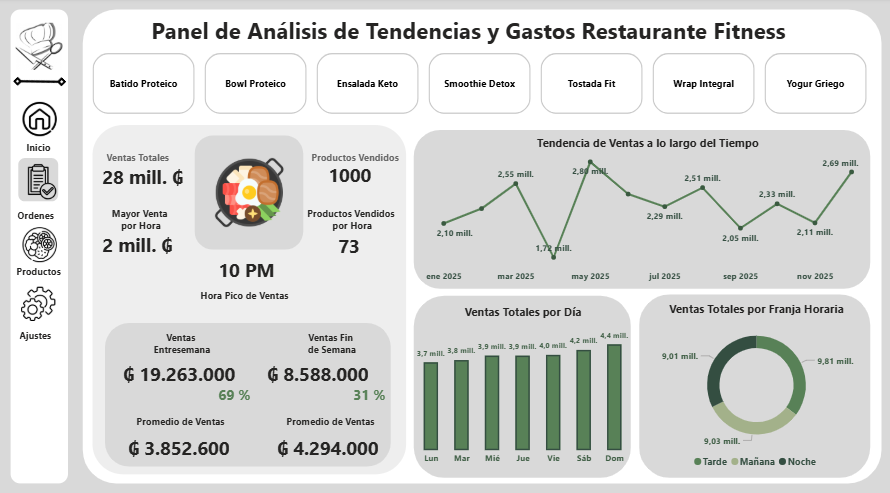

Layout of this report page (visuals, bound fields, positions):
{"tool":"powerbi","page":{"name":"Página 1","canvas":[1280,720],"ordinal":0},"visuals":[{"type":"textbox","box":[214.3,24.3,942.9,61.4],"z":0},{"type":"cardVisual","fields":{"Data":["Medidas_dax.Medida"]},"box":[120,225,188.6,67.1],"z":1000},{"type":"cardVisual","fields":{"Data":["Medidas_dax.Productos_Vendidos"]},"box":[442.9,225,121.4,62.9],"z":2000},{"type":"cardVisual","fields":{"Data":["Medidas_dax.Hora_Gasto_Maximo"]},"box":[120,325,178.8,65],"z":3000},{"type":"cardVisual","fields":{"Data":["Medidas_dax.Producto_mas_vendido"]},"box":[457.1,325,92.9,68.6],"z":4000},{"type":"cardVisual","fields":{"Data":["Medidas_dax.Hora_Pico_de_Ventas_formatoxhora"]},"box":[285,360,138.8,65],"z":5000},{"type":"cardVisual","fields":{"Data":["Medidas_dax.Gasto_Entresemana"]},"box":[150,505,235.7,70],"z":6000},{"type":"cardVisual","fields":{"Data":["Medidas_dax.Gasto_FindeSemana"]},"box":[355.7,505,235,70],"z":7000},{"type":"cardVisual","fields":{"Data":["Medidas_dax.% Gasto_Entresemana"]},"box":[285,540,105,60],"z":8000},{"type":"cardVisual","fields":{"Data":["Medidas_dax.% Gasto_FindeSemana"]},"box":[478.3,540,105,60],"z":9000},{"type":"cardVisual","fields":{"Data":["Medidas_dax.Gasto_Promedio_Entresemana"]},"box":[157.1,611.4,208.6,70],"z":10000},{"type":"cardVisual","fields":{"Data":["Medidas_dax.Gasto_Promedio_FindeSemana"]},"box":[370,611.4,215.7,70],"z":11000},{"type":"textbox","box":[150,220,108.6,28.6],"z":12000},{"type":"textbox","box":[442.9,220,152.9,28.6],"z":13000},{"type":"textbox","box":[157.1,300,94.3,44.3],"z":14000},{"type":"textbox","box":[432.9,300,142.9,47.1],"z":15000},{"type":"textbox","box":[283.8,417.5,145,28.8],"z":16000},{"type":"textbox","box":[214.3,477.1,97.1,50],"z":17000},{"type":"textbox","box":[428.6,477.1,97,50],"z":18000},{"type":"textbox","box":[190,597.1,141.4,28.6],"z":19000},{"type":"lineChart","title":"Tendencia de Ventas a lo largo del Tiempo","fields":{"Y":["Sum(dataset_restaurante_fitness_2025.ingreso)"],"Category":["dataset_restaurante_fitness_2025.fecha.Variación.Jerarquía de fechas.Año","dataset_restaurante_fitness_2025.fecha.Variación.Jerarquía de fechas.Trimestre","dataset_restaurante_fitness_2025.fecha.Variación.Jerarquía de fechas.Mes"]},"box":[605.7,201.4,645.7,220],"z":20000},{"type":"clusteredColumnChart","title":"Ventas Totales por Día","fields":{"Category":["dataset_restaurante_fitness_2025.dia_semana"],"Y":["Sum(dataset_restaurante_fitness_2025.ingreso)"]},"box":[585,442.5,328.8,238.8],"z":21000},{"type":"donutChart","title":"Ventas Totales por Franja Horaria","fields":{"Category":["dataset_restaurante_fitness_2025.franja_horaria"],"Y":["Sum(dataset_restaurante_fitness_2025.ingreso)"]},"box":[928.6,438.6,310,248.6],"z":22000},{"type":"advancedSlicerVisual","fields":{"Values":["dataset_restaurante_fitness_2025.producto"]},"box":[130,84.3,1121.4,92.9],"z":23000},{"type":"textbox","box":[403.8,597.5,141.2,28.8],"z":23000},{"type":"textbox","box":[36,205.9,46.1,28.8],"z":24001},{"type":"textbox","box":[23,302.4,70.6,44.6],"z":24002},{"type":"textbox","box":[21.6,383,83.5,36],"z":24003},{"type":"textbox","box":[25.9,473.8,64.8,28.8],"z":24004}]}

Visuals, with their boxes on the page's 1280x720 design canvas (x1, y1, x2, y2). These are canvas units, not pixel positions in the 890x493 screenshot, which may show the page scaled, cropped or inside an application window:
textbox: Rect(214, 24, 1157, 86)
cardVisual - Medidas_dax.Medida: Rect(120, 225, 309, 292)
cardVisual - Medidas_dax.Productos_Vendidos: Rect(443, 225, 564, 288)
cardVisual - Medidas_dax.Hora_Gasto_Maximo: Rect(120, 325, 299, 390)
cardVisual - Medidas_dax.Producto_mas_vendido: Rect(457, 325, 550, 394)
cardVisual - Medidas_dax.Hora_Pico_de_Ventas_formatoxhora: Rect(285, 360, 424, 425)
cardVisual - Medidas_dax.Gasto_Entresemana: Rect(150, 505, 386, 575)
cardVisual - Medidas_dax.Gasto_FindeSemana: Rect(356, 505, 591, 575)
cardVisual - Medidas_dax.% Gasto_Entresemana: Rect(285, 540, 390, 600)
cardVisual - Medidas_dax.% Gasto_FindeSemana: Rect(478, 540, 583, 600)
cardVisual - Medidas_dax.Gasto_Promedio_Entresemana: Rect(157, 611, 366, 681)
cardVisual - Medidas_dax.Gasto_Promedio_FindeSemana: Rect(370, 611, 586, 681)
textbox: Rect(150, 220, 259, 249)
textbox: Rect(443, 220, 596, 249)
textbox: Rect(157, 300, 251, 344)
textbox: Rect(433, 300, 576, 347)
textbox: Rect(284, 418, 429, 446)
textbox: Rect(214, 477, 311, 527)
textbox: Rect(429, 477, 526, 527)
textbox: Rect(190, 597, 331, 626)
"Tendencia de Ventas a lo largo del Tiempo" lineChart: Rect(606, 201, 1251, 421)
"Ventas Totales por Día" clusteredColumnChart: Rect(585, 442, 914, 681)
"Ventas Totales por Franja Horaria" donutChart: Rect(929, 439, 1239, 687)
advancedSlicerVisual - dataset_restaurante_fitness_2025.producto: Rect(130, 84, 1251, 177)
textbox: Rect(404, 598, 545, 626)
textbox: Rect(36, 206, 82, 235)
textbox: Rect(23, 302, 94, 347)
textbox: Rect(22, 383, 105, 419)
textbox: Rect(26, 474, 91, 503)
